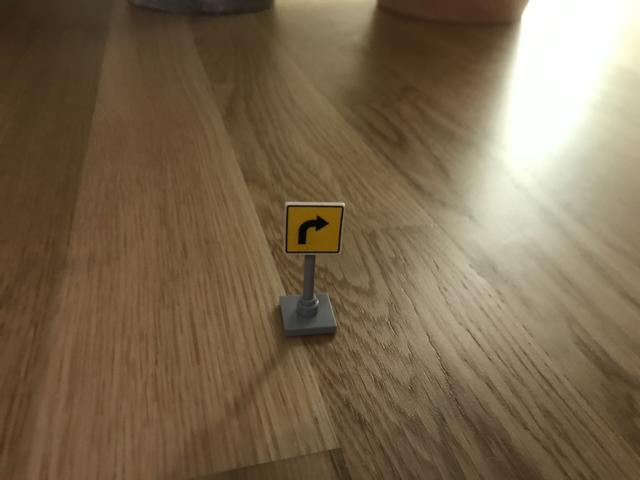fahrtrichtung rechts: (284, 201, 346, 256)
